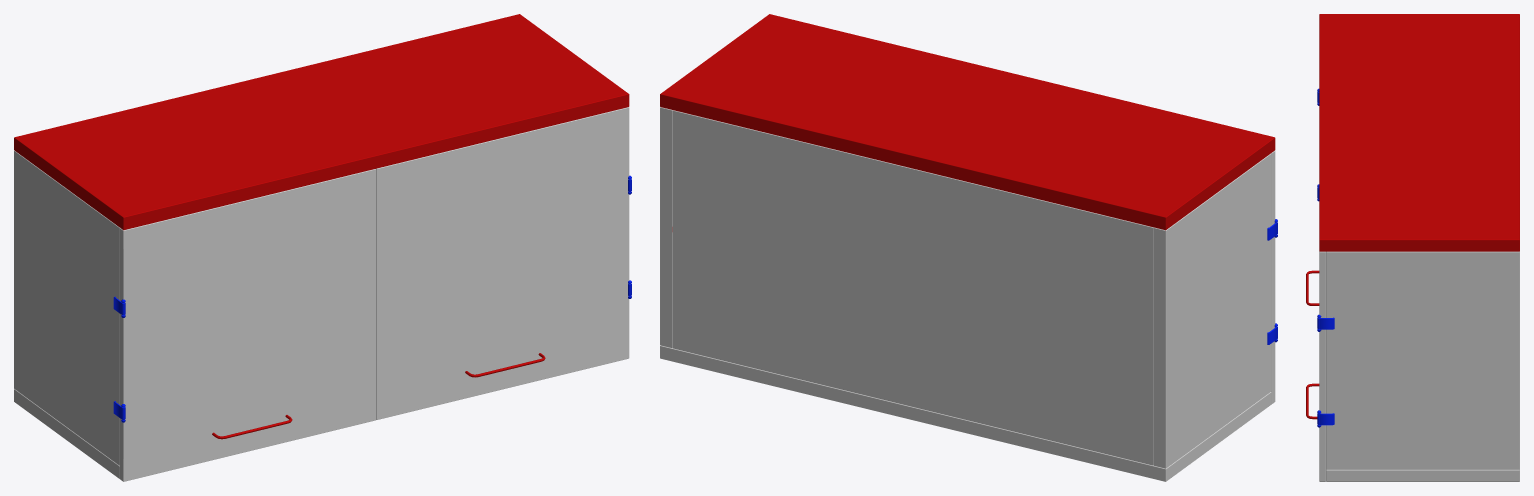
The model's file is Overbench01.fbx.
The picture shows the model from 3 angles, left to right: view 1: azimuth 30°, elevation 25°; view 2: azimuth 150°, elevation 25°; view 3: azimuth 270°, elevation 25°; orthographic projection. The views are drawn at different scales.
Visible parts, largest first — view 1: Overbench01, Drawer01, Drawer02; view 2: Overbench01, Drawer01; view 3: Overbench01, Drawer02.
Part boxes in pixels (<box>): Overbench01: <box>14,14,631,478</box>; Drawer01: <box>120,169,376,481</box>; Drawer02: <box>376,107,629,419</box>; Overbench01: <box>660,14,1277,481</box>; Drawer01: <box>1271,150,1275,403</box>; Overbench01: <box>1317,14,1519,481</box>; Drawer02: <box>1306,251,1325,481</box>.
Bounding box in the file's own units: 101 × 40 × 50.
